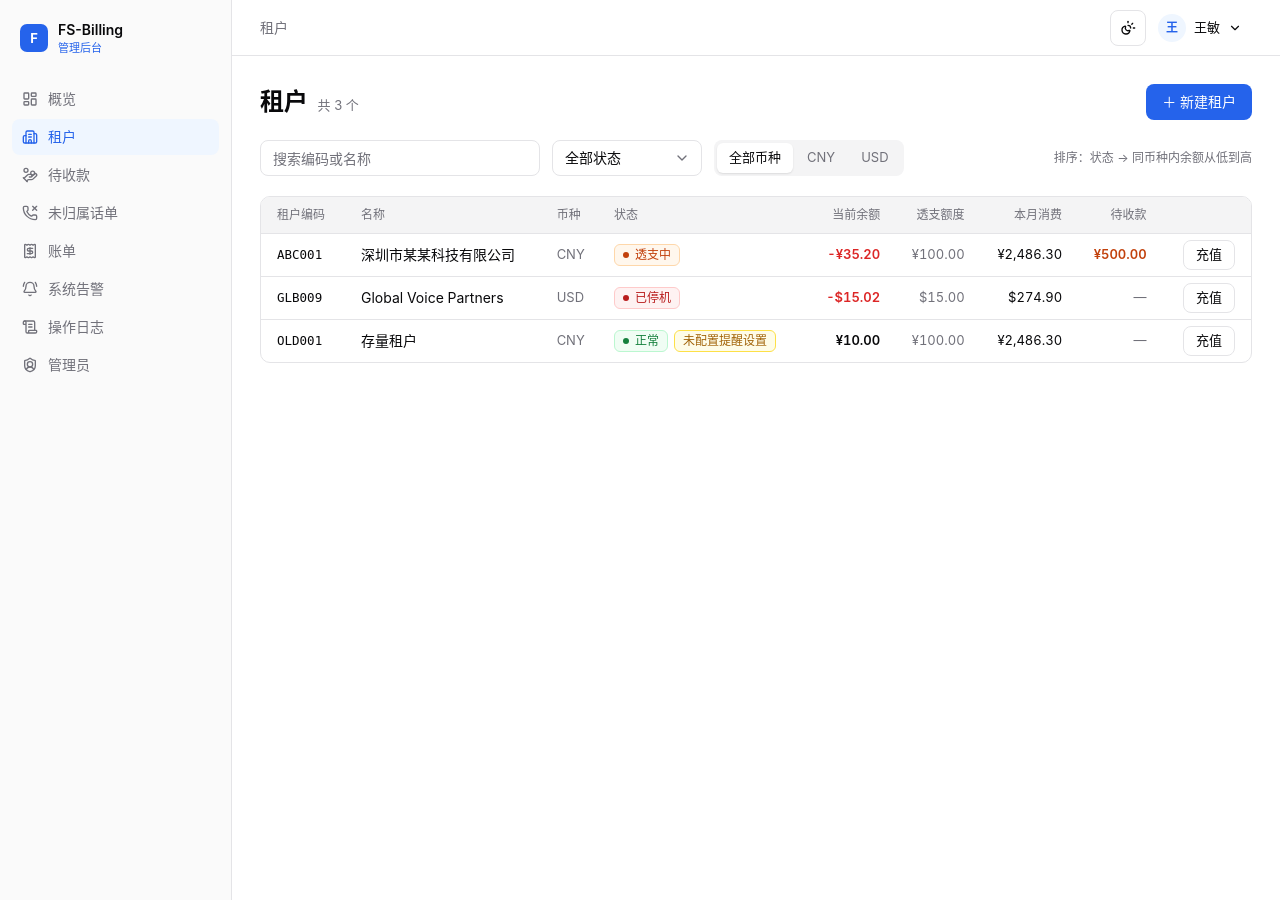
Test: tenant list › filters go to the API and the URL, and an empty result offers to clear them
Expected: the table is shown, top-left (261, 197), bottom-right (1251, 362)
Select "已停机" in the dropdown named "状态" at (627, 158), box top-left (552, 140), bottom-right (702, 176)
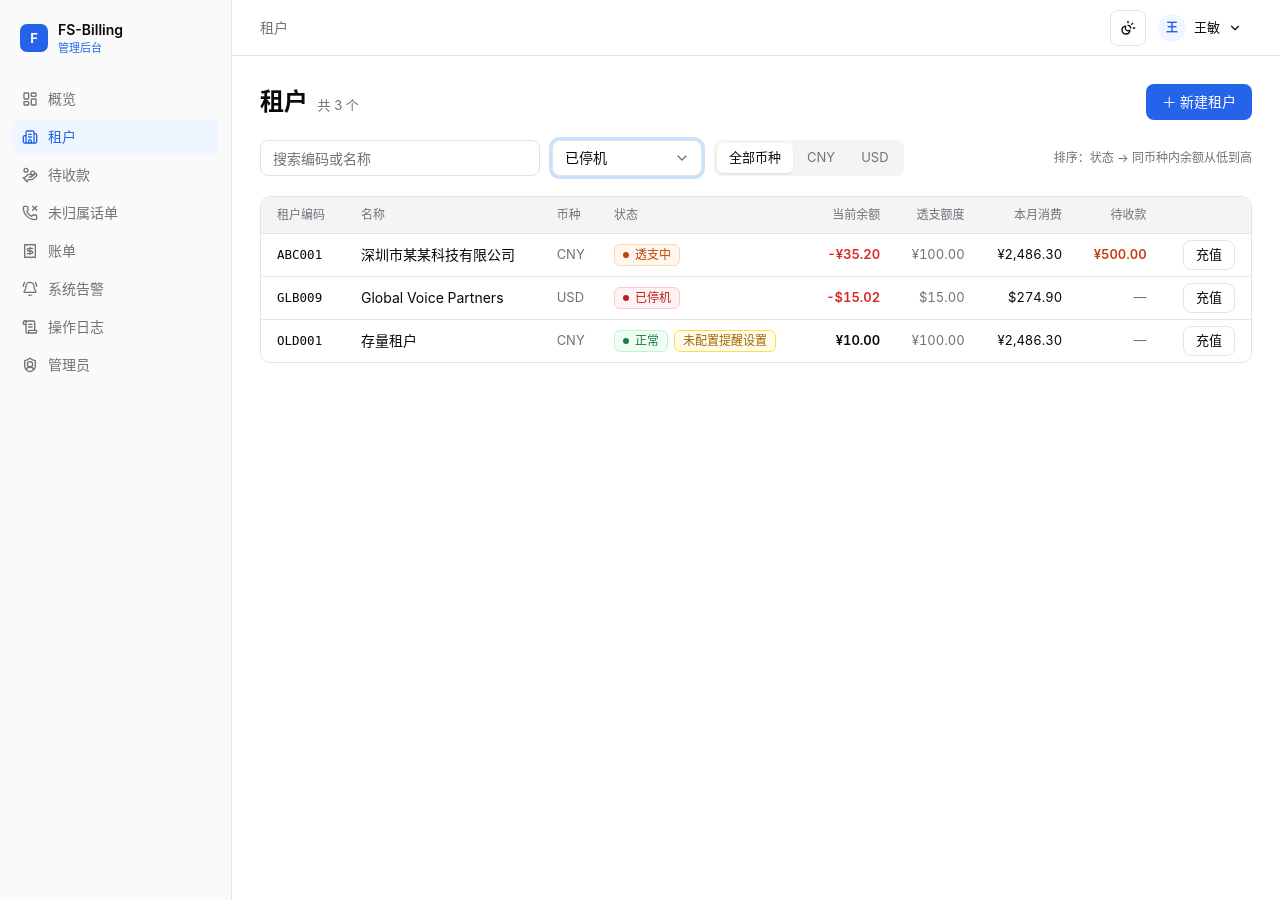
Click the button "USD".
click(875, 158)  # box top-left (849, 143), bottom-right (900, 173)
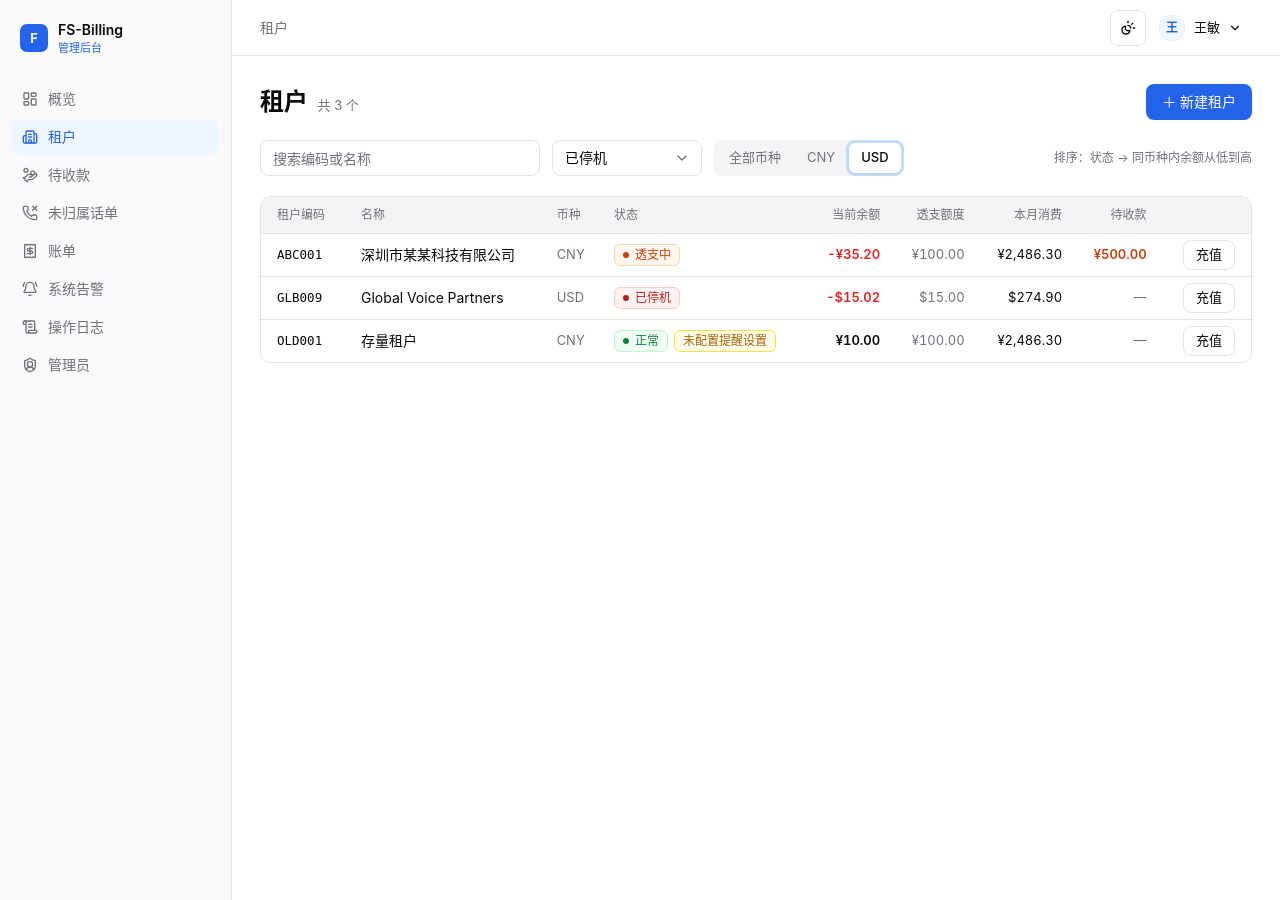
Type "ABC01" into the search field labelled "搜索编码或名称".
click(400, 158); type("ABC01")  # box top-left (260, 140), bottom-right (540, 176)
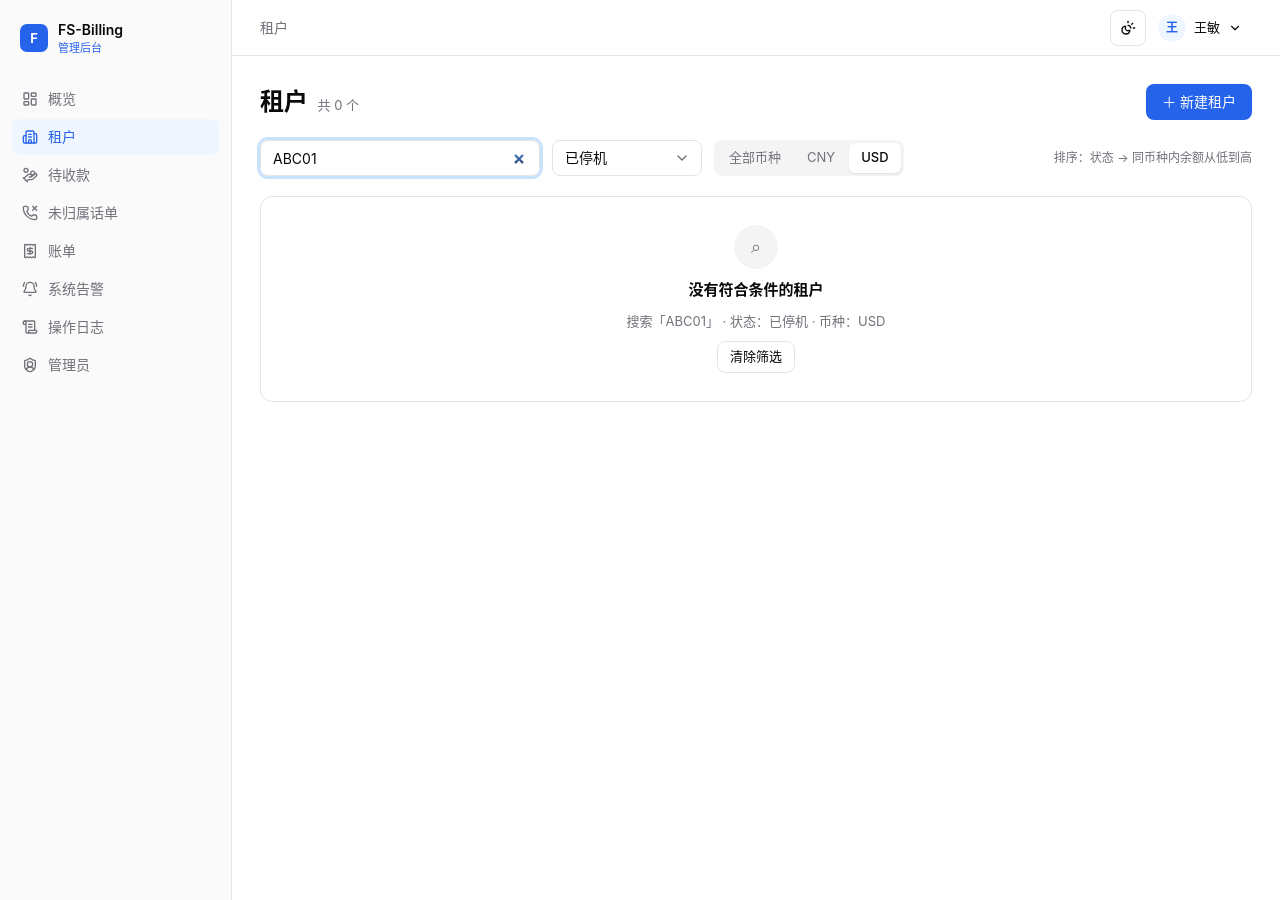
Expected: the text "没有符合条件的租户" is shown, top-left (688, 279), bottom-right (824, 302)
Expected: the text "搜索「ABC01」 · 状态：已停机 · 币种：USD" is shown, top-left (626, 312), bottom-right (886, 331)
Click the button "清除筛选".
click(756, 357)  # box top-left (717, 341), bottom-right (795, 373)
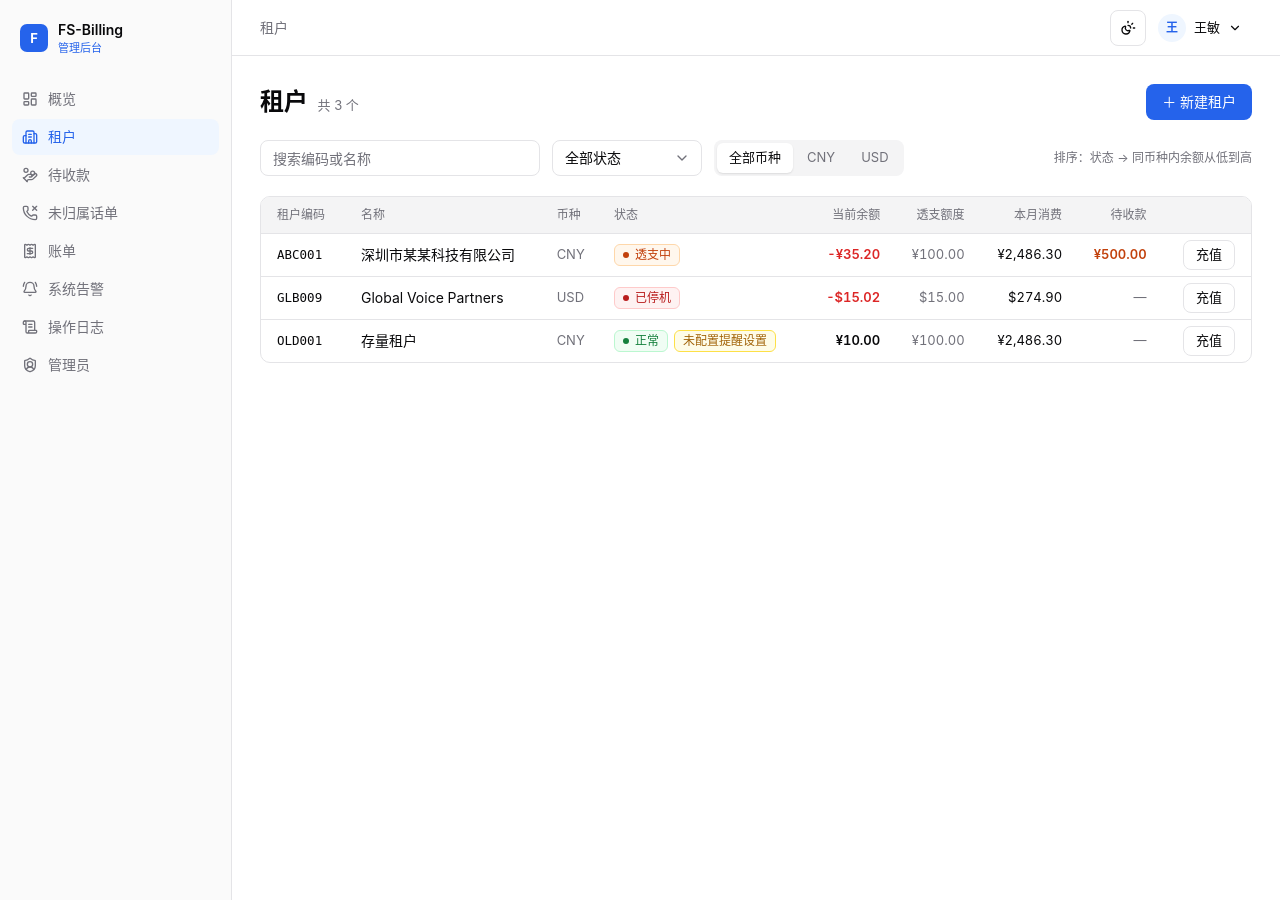
Expected: the table is shown, top-left (261, 197), bottom-right (1251, 362)
